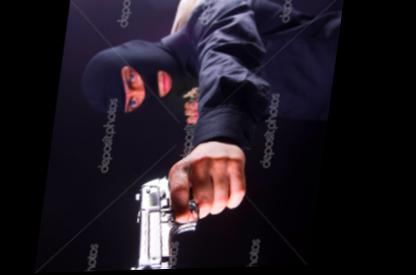pistol: (125, 166, 236, 270)
